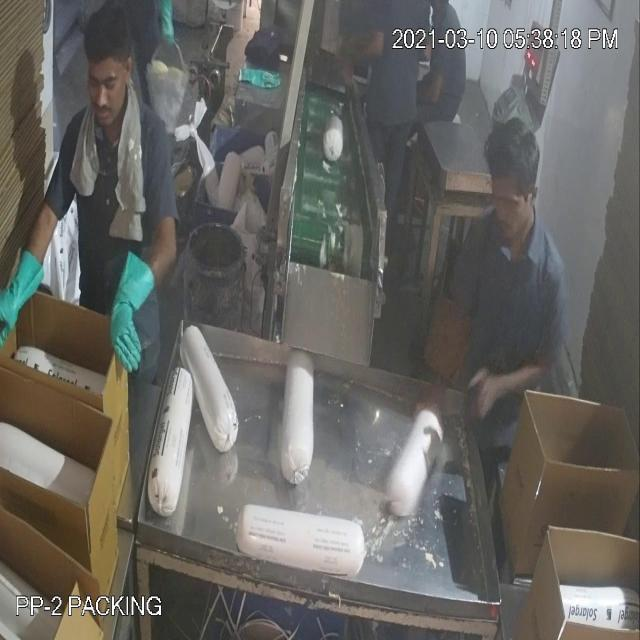gloves: (98, 244, 168, 388)
no-gloves: (405, 260, 468, 456), (465, 349, 561, 450)
